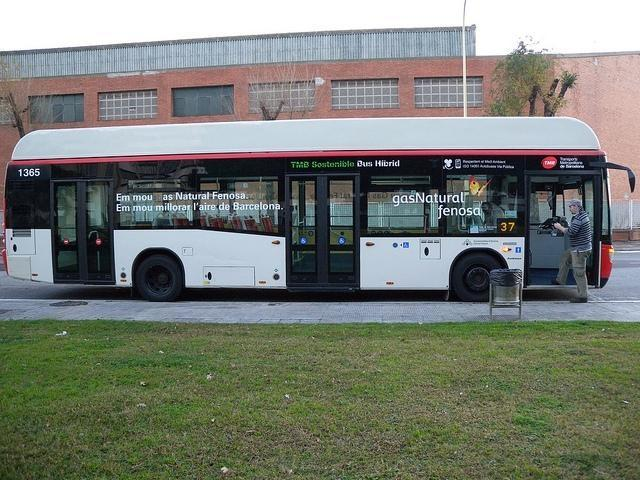bus: (8, 116, 614, 302)
